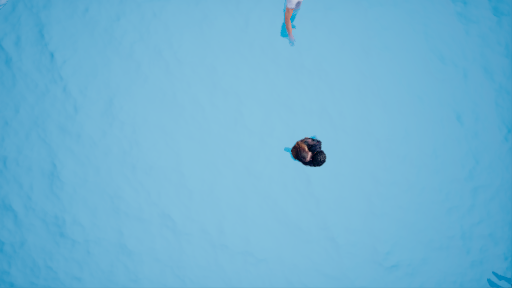person: (278, 1, 304, 48)
